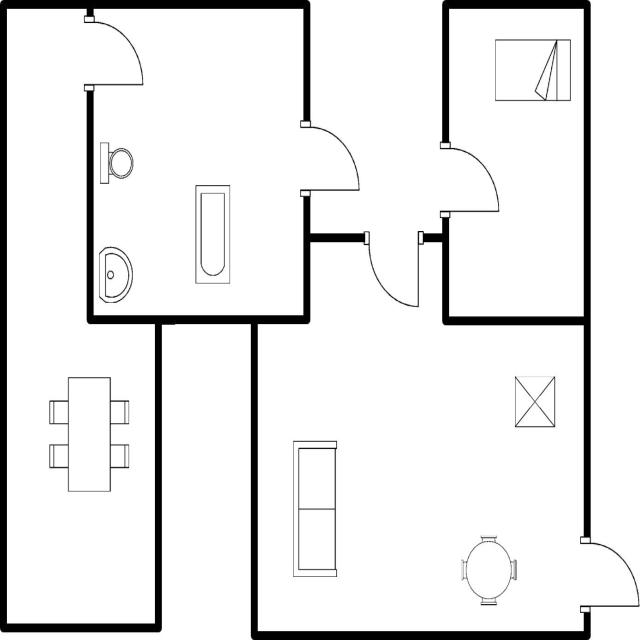bed: (489, 33, 575, 107)
coffee_table: (510, 372, 559, 432)
dining_table: (44, 371, 134, 496)
large_sink: (96, 137, 138, 188)
large_sofa: (289, 435, 343, 581)
round_table: (458, 530, 522, 610)
small_sink: (94, 242, 138, 308)
tub: (190, 178, 233, 288)
